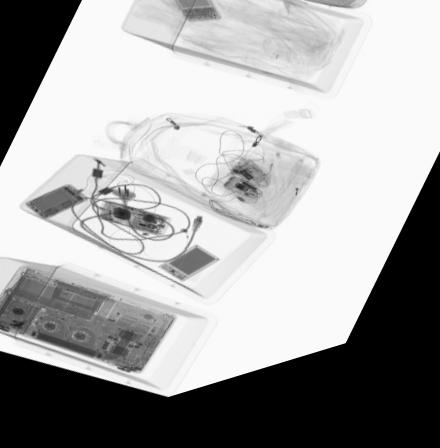Powerbank: (156, 256, 219, 294)
